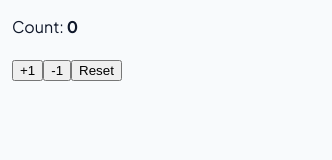
Test: 15 React Hooks + TypeScript Concise Demos › 07. useReducer: tăng, giảm và reset bằng dispatch
The width and height of the screenshot is (332, 160).
Click the button "+1" at (28, 70), box [12,60,43,81]
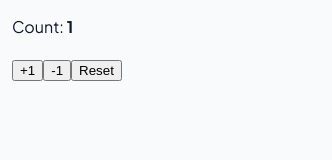
Click the button "+1" at (28, 70), box [12,60,43,81]
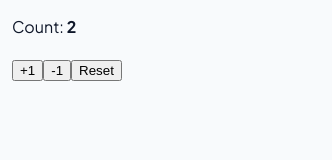
Expected: the text "2" is shown, [67,16,76,37]
Click the button "-1" at (57, 70), box [43,60,71,81]
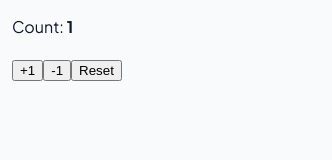
Expected: the text "1" is shown, [67,16,73,37]
Click the button "Reset" at (96, 70), box [71,60,122,81]
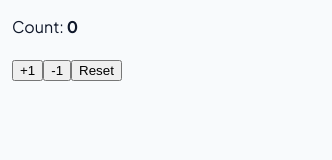
Expected: the text "0" is shown, [67,16,78,37]
